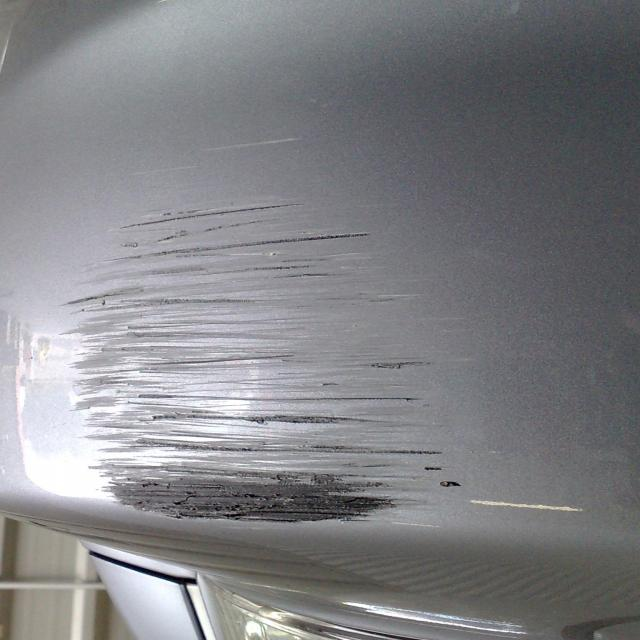scratch: (31, 204, 488, 523)
